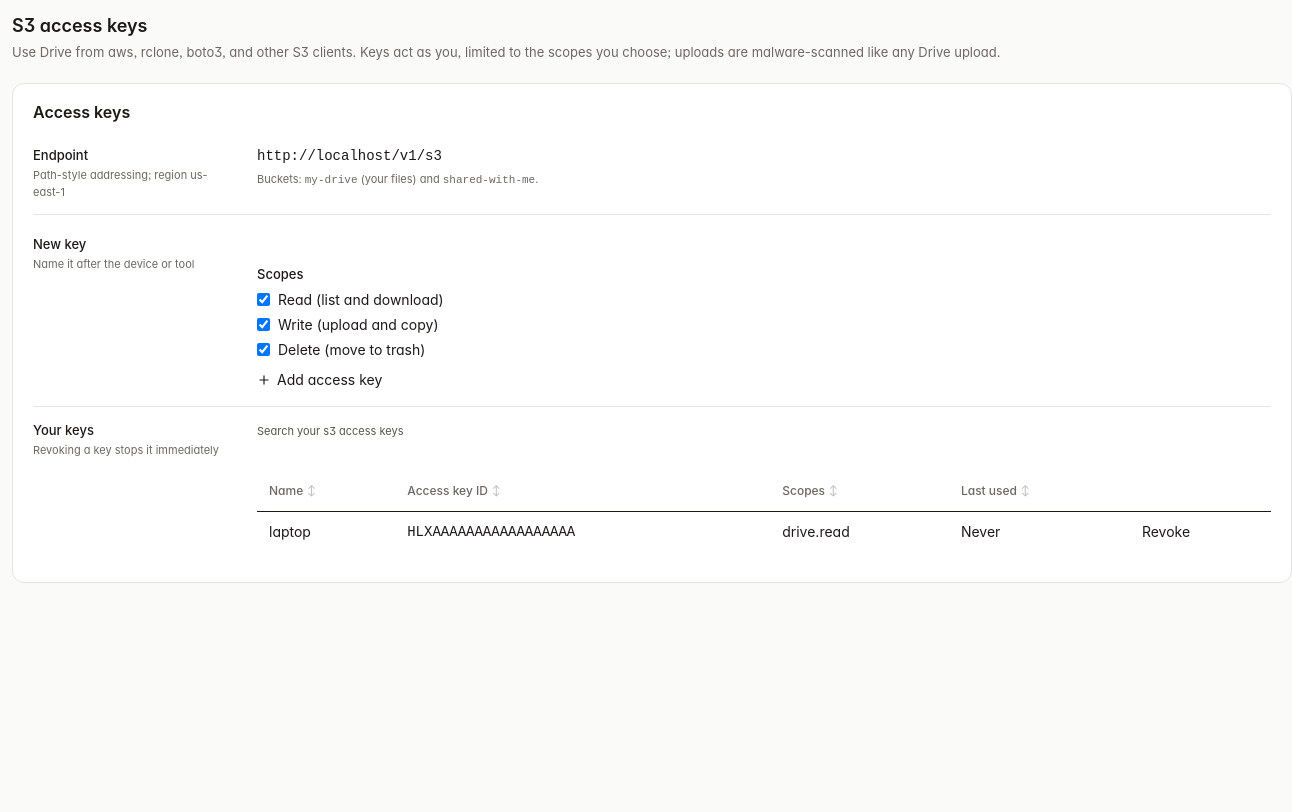
Test: shows the endpoint and lists keys with labelled revoke buttons
Click the button with aria-label "Revoke S3 access key laptop" at (1166, 532), box [1142,520,1190,544]
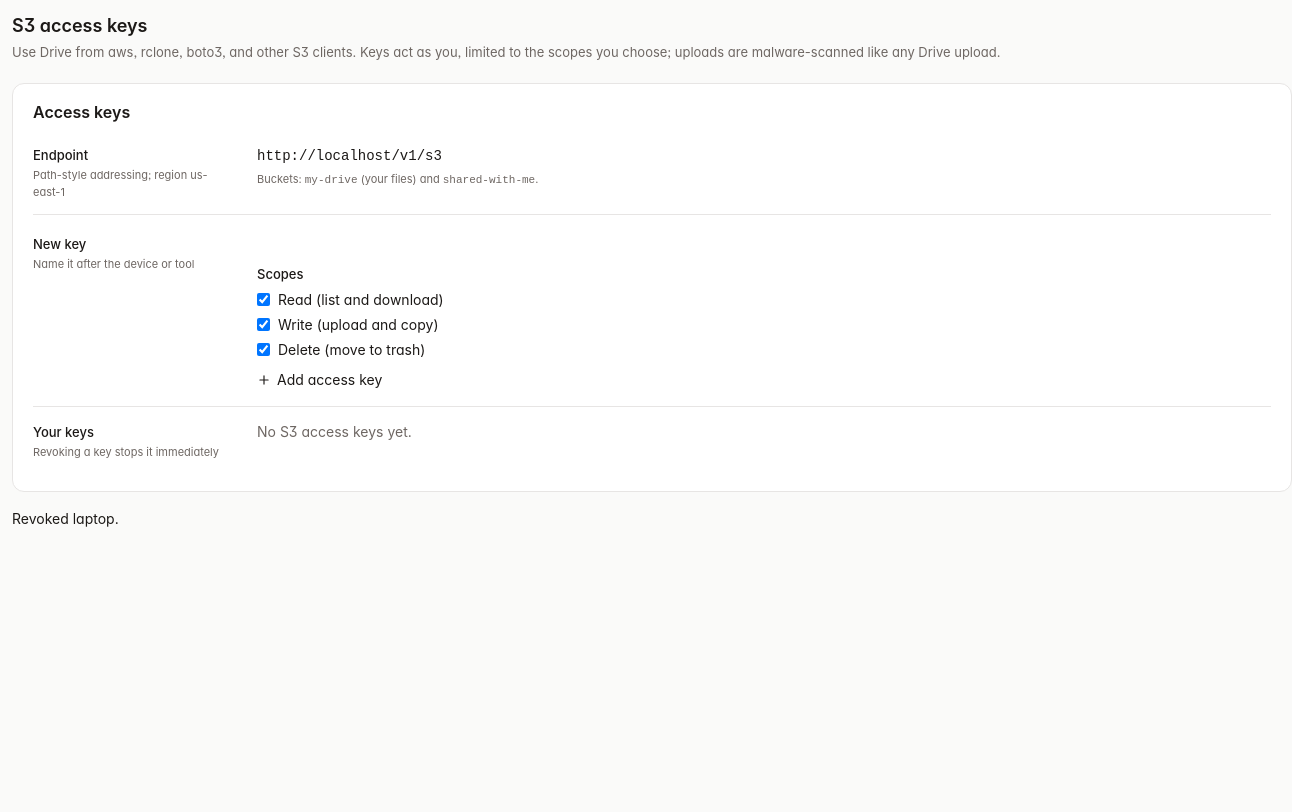
Check: the message "Revoked laptop." is shown, box [12,510,119,526]
